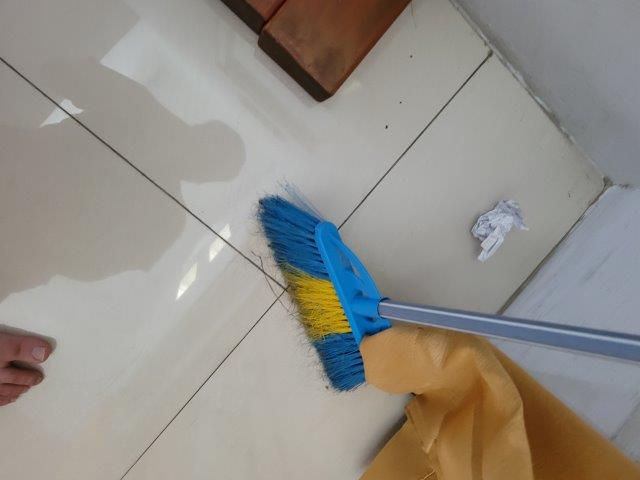kertas: (471, 201, 527, 264)
